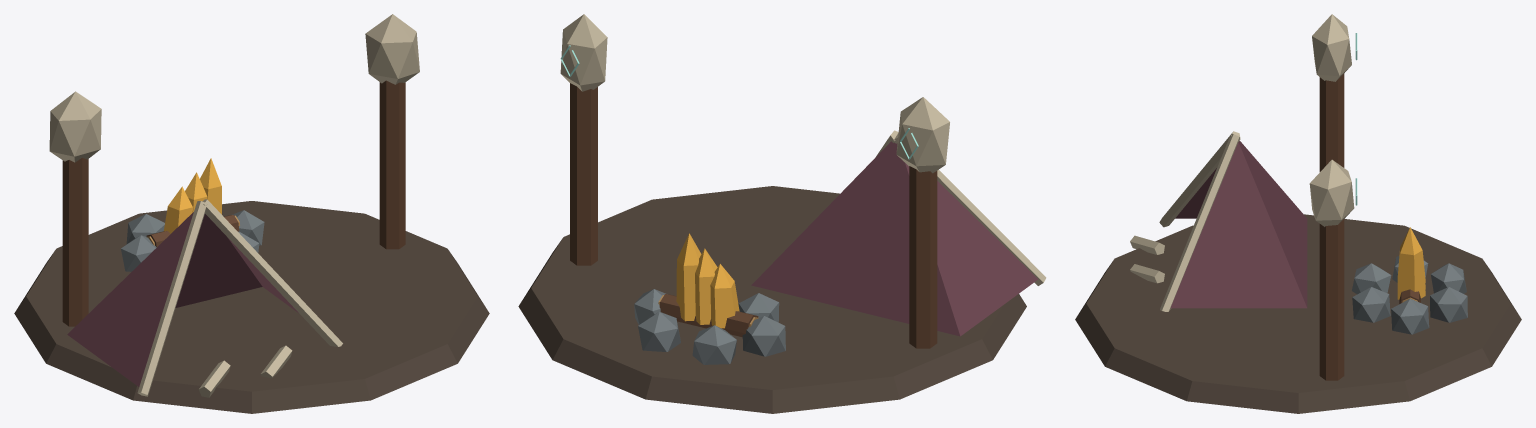
Rendered from MonsterCamp_1.fbx.
3 views of the same model, side by side, from view 1: azimuth 30°, elevation 25°; view 2: azimuth 150°, elevation 25°; view 3: azimuth 270°, elevation 25° (orthographic). The views are drawn at different scales.
Visible parts, largest first — view 1: MonsterCamp_1; view 2: MonsterCamp_1; view 3: MonsterCamp_1.
Boxes of the visible parts, <box> form: MonsterCamp_1: <box>14,14,489,413</box>; MonsterCamp_1: <box>518,14,1046,413</box>; MonsterCamp_1: <box>1075,14,1521,413</box>.
Size of the model in its own units: 2 by 1.15 by 2.
Materials: 1 (1 with a texture image).
